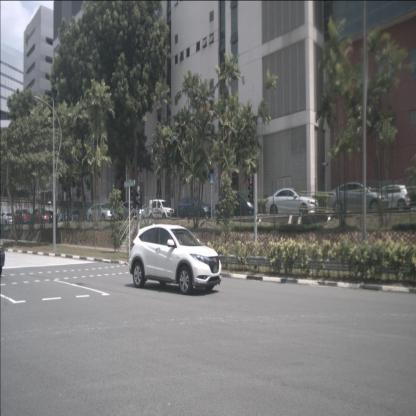vehicle-car: (128, 222, 222, 297), (327, 182, 389, 216), (264, 187, 320, 216), (373, 182, 411, 211), (216, 193, 258, 217), (176, 197, 212, 219), (116, 199, 147, 221), (87, 203, 116, 223), (148, 199, 175, 220), (30, 208, 52, 224), (13, 210, 33, 224), (62, 210, 82, 223), (0, 212, 16, 226)
